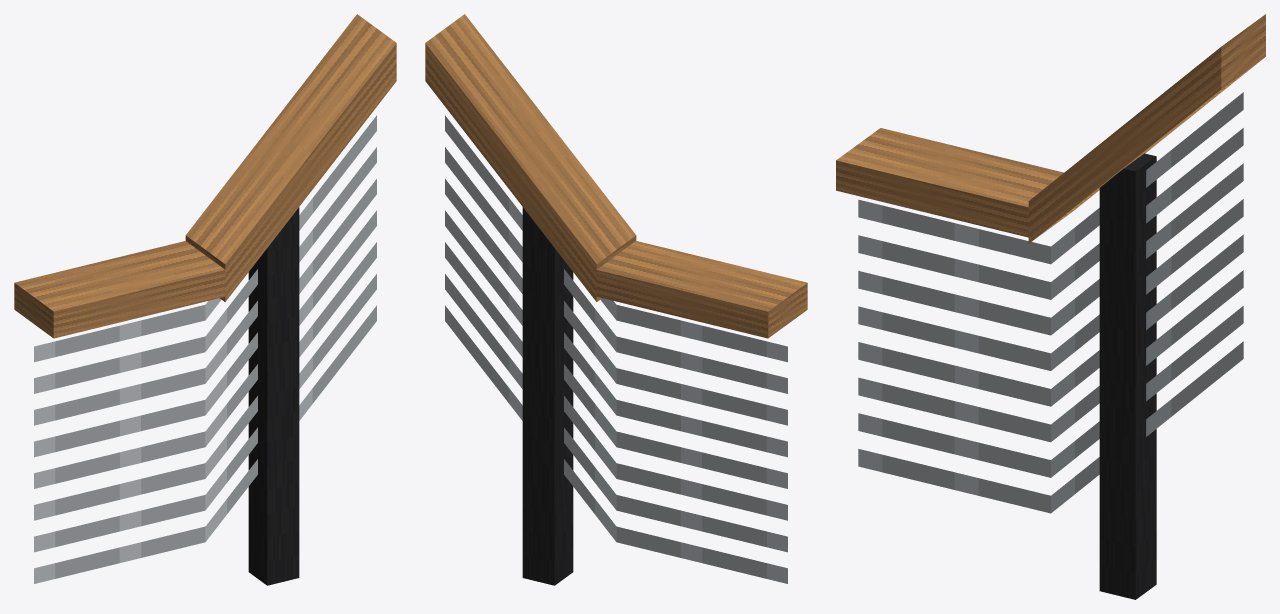
The model's file is foot_pos.obj.
The picture shows the model from 3 angles, left to right: view 1: azimuth 30°, elevation 25°; view 2: azimuth 150°, elevation 25°; view 3: azimuth 330°, elevation 25°; orthographic projection. The views are drawn at different scales.
Visible parts, largest first — view 1: railing_cable_black_oak_foot_pos; view 2: railing_cable_black_oak_foot_pos; view 3: railing_cable_black_oak_foot_pos.
Boxes of the visible parts, box(x1,y1,x2,y2) form: railing_cable_black_oak_foot_pos: box(14, 14, 396, 585); railing_cable_black_oak_foot_pos: box(425, 14, 807, 585); railing_cable_black_oak_foot_pos: box(836, 14, 1265, 599).
Bounding box in the file's own units: 1 × 1.45 × 0.2.
